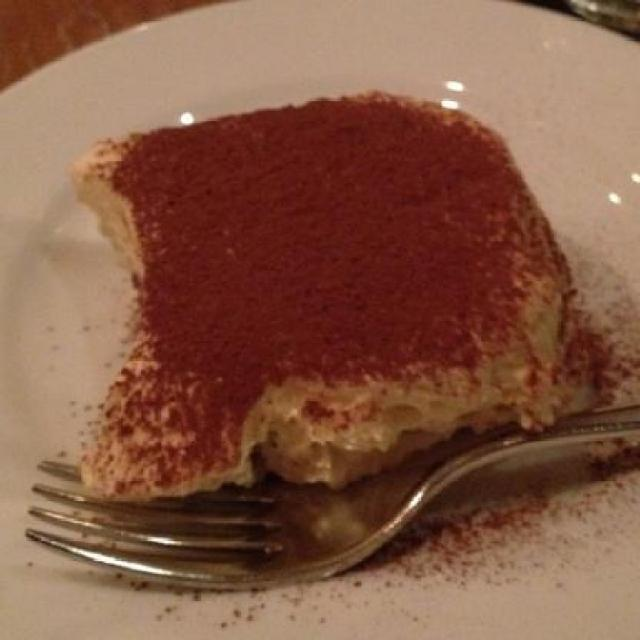Tiramisu: (70, 94, 578, 468)
